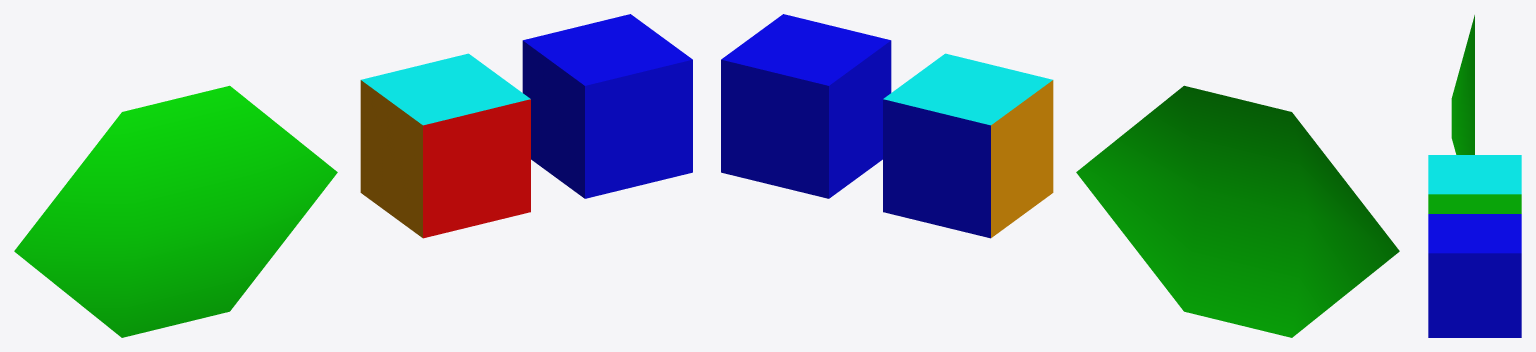
The model's file is cubes.obj.
3 renders of one model, left to right at view 1: azimuth 30°, elevation 25°; view 2: azimuth 150°, elevation 25°; view 3: azimuth 270°, elevation 25°, orthographic. The views are drawn at different scales.
Visible parts, largest first — view 1: kite, cube 01, cube 02; view 2: kite, cube 01, cube 02; view 3: cube 02, cube 01, kite.
Boxes of the visible parts, x1=… form: kite: x1=14, y1=85, x2=337, y2=337; cube 01: x1=360, y1=53, x2=530, y2=238; cube 02: x1=522, y1=14, x2=692, y2=198; kite: x1=1076, y1=85, x2=1399, y2=337; cube 01: x1=883, y1=53, x2=1053, y2=238; cube 02: x1=721, y1=14, x2=891, y2=198; cube 02: x1=1428, y1=214, x2=1521, y2=337; cube 01: x1=1428, y1=155, x2=1521, y2=213; kite: x1=1451, y1=15, x2=1474, y2=154.
Size of the model in its own units: 120 by 40 by 20.
